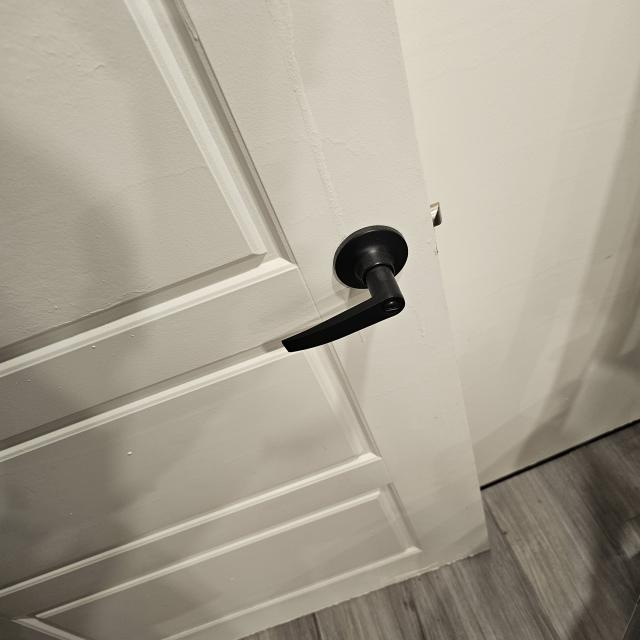door-handle: (282, 225, 408, 351)
